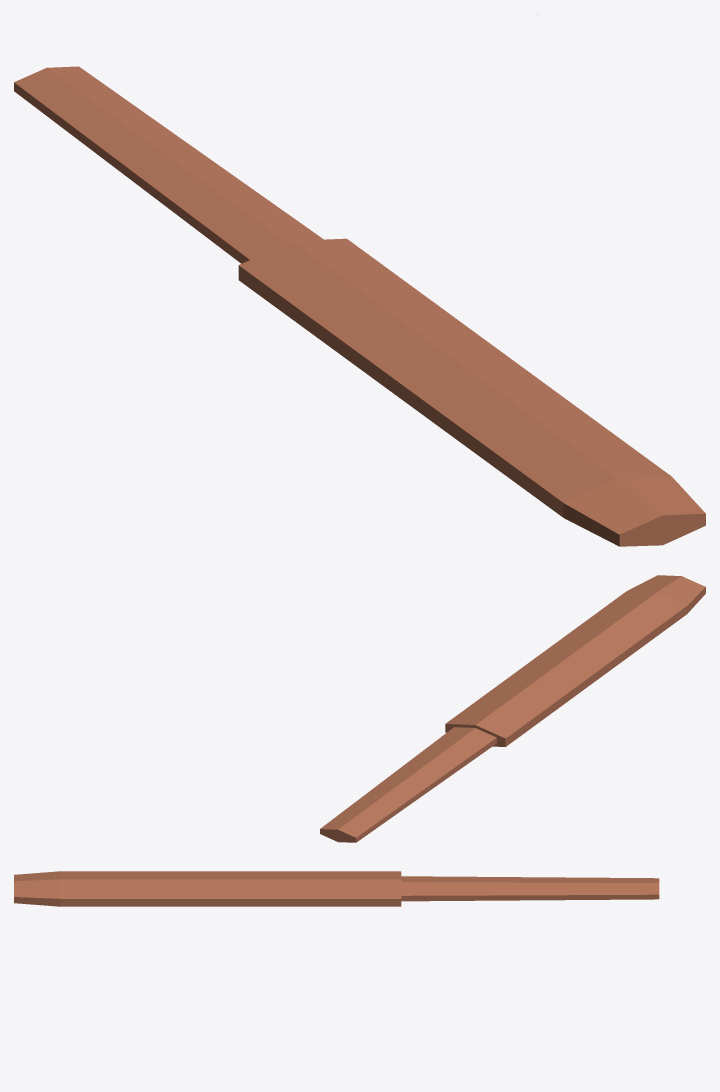
The model's file is final location.fbx.
3 views of the same model, one above another, from view 1: azimuth 30°, elevation 25°; view 2: azimuth 150°, elevation 25°; view 3: azimuth 270°, elevation 25° (orthographic). The views are drawn at different scales.
Parts seen in each view (by area): view 1: Cube.008; view 2: Cube.008; view 3: Cube.008.
Boxes of the visible parts, x1=… form: Cube.008: x1=14, y1=66, x2=705, y2=546; Cube.008: x1=320, y1=575, x2=705, y2=842; Cube.008: x1=14, y1=871, x2=659, y2=906.
Bounding box in the file's own units: 1890256 × 358447 × 3661296.
